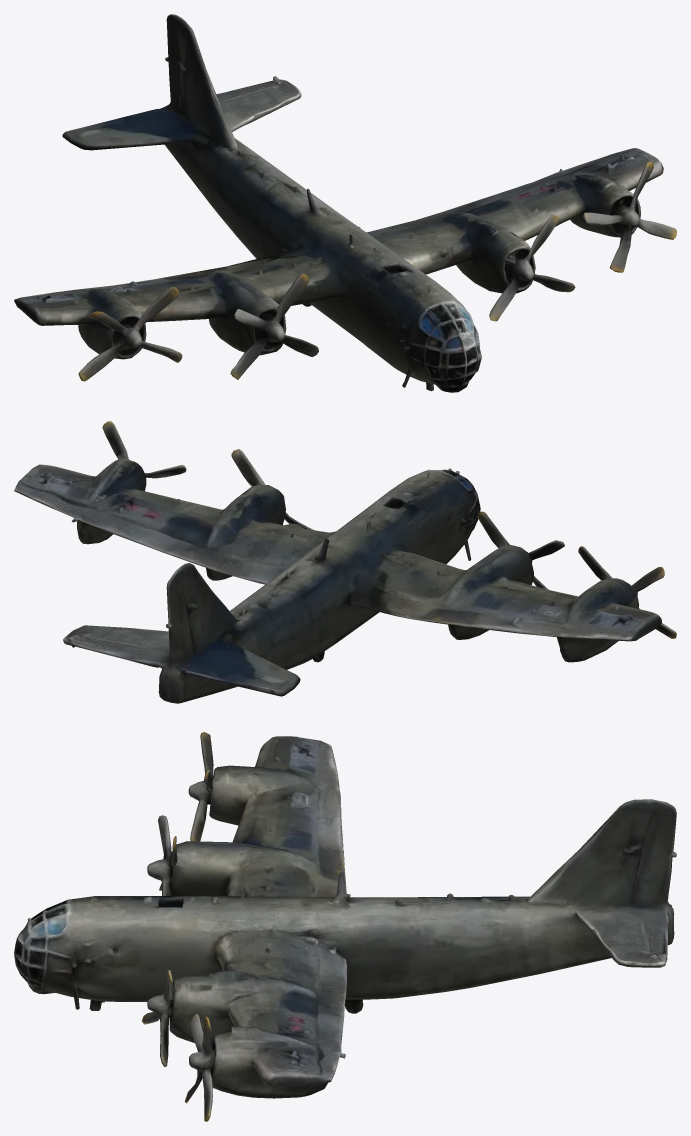
Rendered from p8bomber.glb.
3 renders of one model, top to bottom at view 1: azimuth 30°, elevation 25°; view 2: azimuth 150°, elevation 25°; view 3: azimuth 270°, elevation 25°, orthographic. The views are drawn at different scales.
Visible parts, largest first — view 1: tripo_node_ef4a8f53-9e38-4a67-bbdd-236c164e6521; view 2: tripo_node_ef4a8f53-9e38-4a67-bbdd-236c164e6521; view 3: tripo_node_ef4a8f53-9e38-4a67-bbdd-236c164e6521.
Boxes of the visible parts, bbox=[...] form: tripo_node_ef4a8f53-9e38-4a67-bbdd-236c164e6521: bbox=[14, 14, 676, 392]; tripo_node_ef4a8f53-9e38-4a67-bbdd-236c164e6521: bbox=[14, 421, 676, 703]; tripo_node_ef4a8f53-9e38-4a67-bbdd-236c164e6521: bbox=[14, 732, 676, 1121].
Bounding box in the file's own units: 0.9992 × 0.2901 × 0.8257.
1 material, 1 textured.
